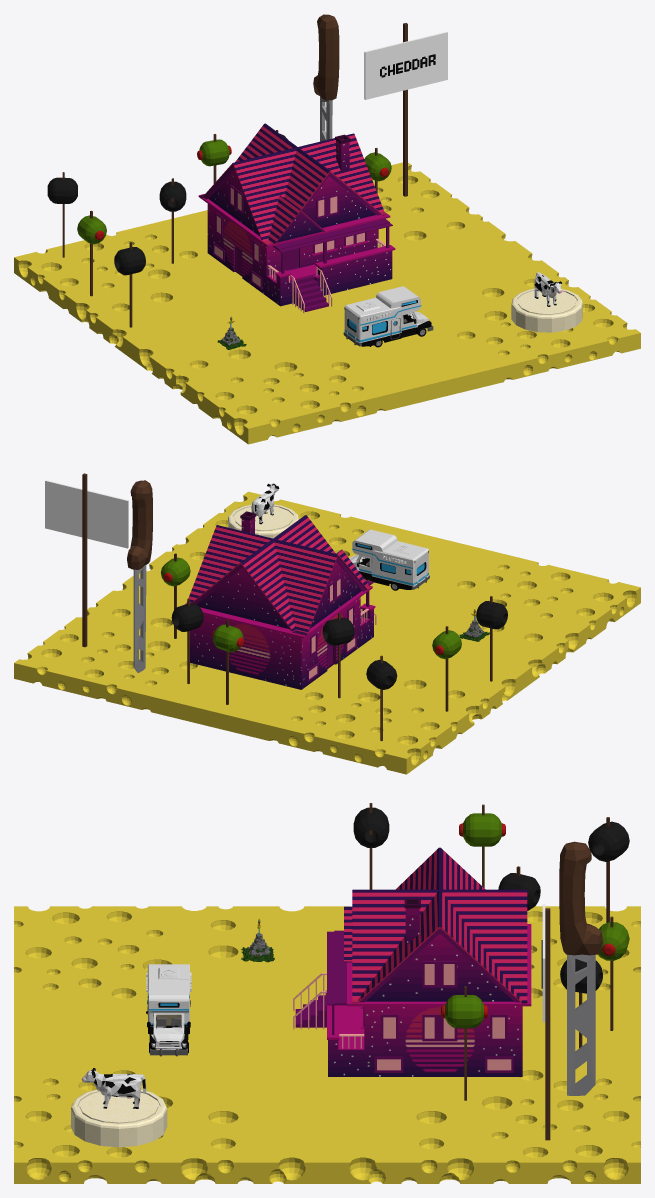
3 renders of one model, top to bottom at view 1: azimuth 30°, elevation 25°; view 2: azimuth 150°, elevation 25°; view 3: azimuth 270°, elevation 25°, orthographic. The views are drawn at different scales.
Parts seen in each view (by area): view 1: Cube.022, Cube.156, Cube.023, VEHICLES_CAMPER, Cylinder.016, Cube.024, Sphere.017, Sphere.016, Sphere.020, Sphere.018, Sphere.022, Sphere.019; view 2: Cube.022, Cube.156, Cube.023, VEHICLES_CAMPER, Cube.024, Cylinder.016, Sphere.017, Sphere.020, Sphere.021, Sphere.016, Sphere.018, Sphere.022 (+2 smaller); view 3: Cube.022, Cube.156, Cube.024, Cylinder.016, VEHICLES_CAMPER, Cube.023, Sphere.019, Sphere.016, Sphere.018, ANIMAL_VACA, Sphere.017, Sphere.022 (+3 smaller).
Boxes of the visible parts, <box> form: Cube.022: <box>14,162,640,444</box>; Cube.156: <box>198,123,395,313</box>; Cube.023: <box>364,23,447,196</box>; VEHICLES_CAMPER: <box>343,286,433,347</box>; Cylinder.016: <box>511,288,582,332</box>; Cube.024: <box>313,14,339,141</box>; Sphere.017: <box>114,242,145,327</box>; Sphere.016: <box>47,172,77,257</box>; Sphere.020: <box>159,178,186,263</box>; Sphere.018: <box>77,210,106,296</box>; Sphere.022: <box>197,134,231,183</box>; Sphere.019: <box>364,148,391,192</box>; Cube.022: <box>14,491,640,774</box>; Cube.156: <box>185,511,376,689</box>; Cube.023: <box>45,473,128,647</box>; VEHICLES_CAMPER: <box>349,529,429,590</box>; Cube.024: <box>127,480,152,672</box>; Cylinder.016: <box>228,504,298,538</box>; Sphere.017: <box>476,596,507,681</box>; Sphere.020: <box>322,612,354,698</box>; Sphere.021: <box>171,598,203,683</box>; Sphere.016: <box>366,655,397,741</box>; Sphere.018: <box>432,626,461,711</box>; Sphere.022: <box>212,619,244,704</box>; Cube.022: <box>14,906,640,1183</box>; Cube.156: <box>293,847,531,1076</box>; Cube.024: <box>559,841,602,1095</box>; Cylinder.016: <box>71,1089,167,1147</box>; VEHICLES_CAMPER: <box>146,964,191,1056</box>; Cube.023: <box>541,904,550,1140</box>; Sphere.019: <box>441,986,487,1100</box>; Sphere.016: <box>588,817,629,922</box>; Sphere.018: <box>459,804,505,887</box>; ANIMAL_VACA: <box>81,1068,146,1108</box>; Sphere.017: <box>353,803,389,889</box>; Sphere.022: <box>598,916,629,1030</box>.
Bounding box in the file's own units: 3917 × 2030 × 4000.
39 materials, 6 textured.
